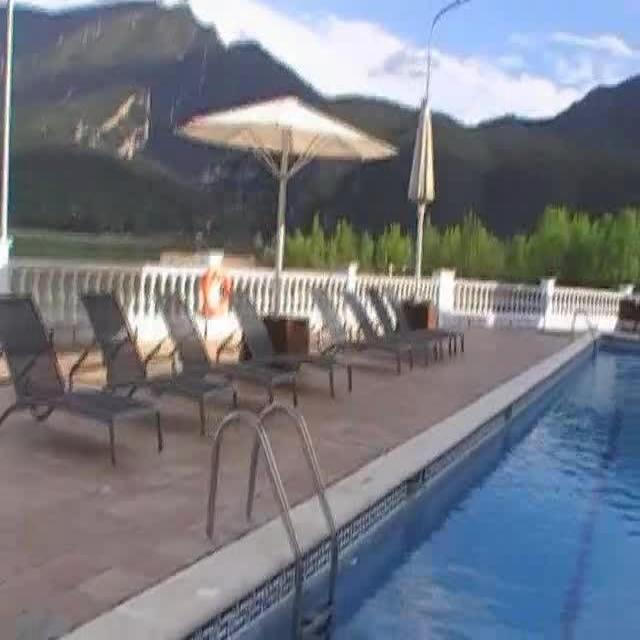other: (138, 249, 483, 319)
